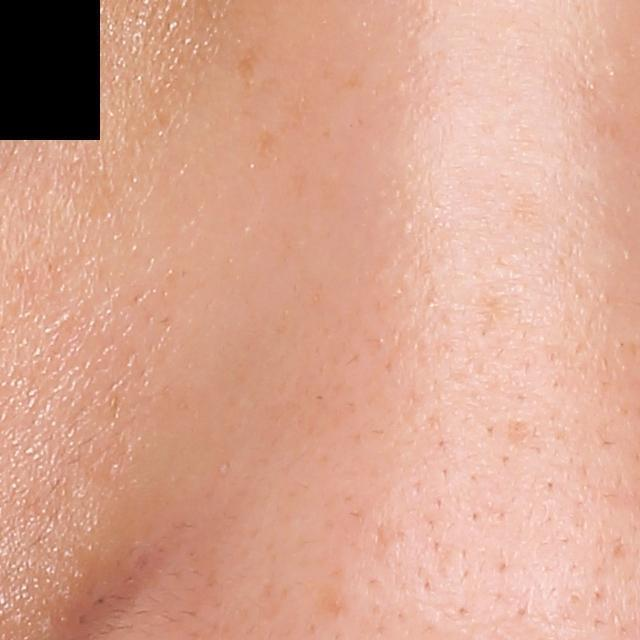melasma: (232, 37, 266, 87)
